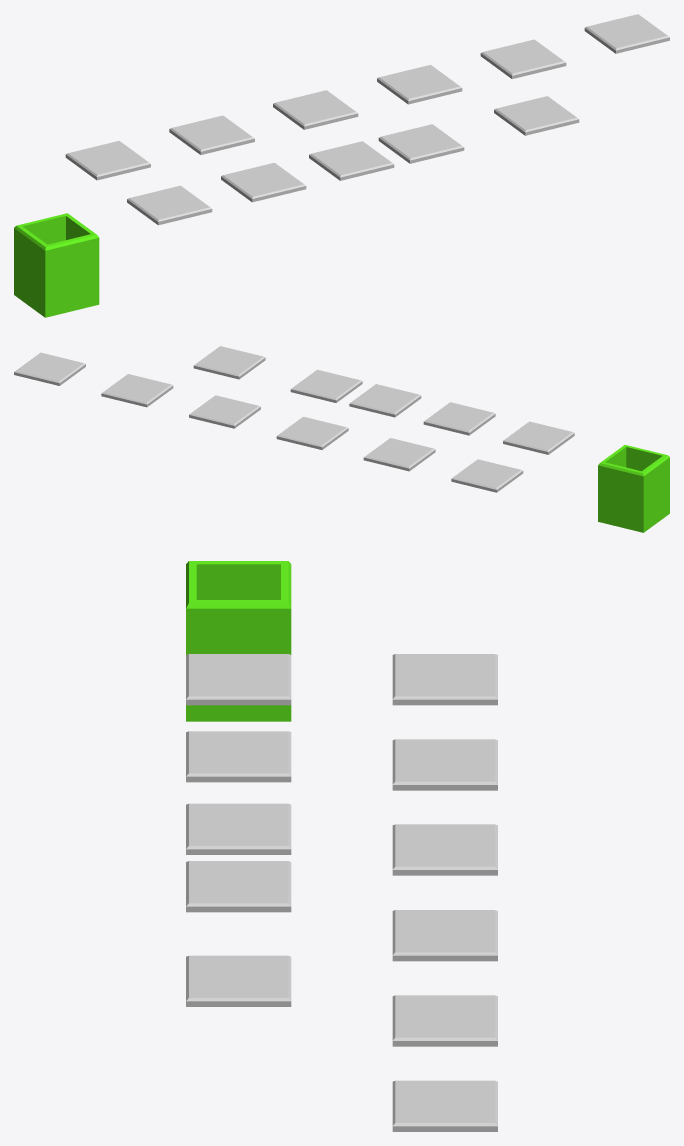
File: snowmap.FBX
The picture shows the model from 3 angles, top to bottom: view 1: azimuth 30°, elevation 25°; view 2: azimuth 150°, elevation 25°; view 3: azimuth 270°, elevation 25°; orthographic projection. The views are drawn at different scales.
Parts seen in each view (by area): view 1: map_snow_hole, map_snow_fix, map_snow_5, map_snow_start_1, map_snow_6, map_snow_start_2, map_snow_1, map_snow_2, map_snow_3, map_snow_default, map_snow_default_1, map_snow_4; view 2: map_snow_hole, map_snow_fix, map_snow_default_1, map_snow_start_2, map_snow_1, map_snow_2, map_snow_5, map_snow_start_1, map_snow_3, map_snow_4, map_snow_6, map_snow_default; view 3: map_snow_hole, map_snow_1, map_snow_default, map_snow_2, map_snow_4, map_snow_start_1, map_snow_3, map_snow_5, map_snow_default_1, map_snow_fix, map_snow_6, map_snow_start_2.
Boxes of the visible parts, x1,y1,x2,y2 form: map_snow_hole: (14,213,99,317); map_snow_fix: (309,141,394,180); map_snow_5: (480,39,566,78); map_snow_start_1: (378,124,464,163); map_snow_6: (584,14,669,53); map_snow_start_2: (494,96,579,135); map_snow_1: (65,141,150,180); map_snow_2: (169,115,254,154); map_snow_3: (273,90,358,129); map_snow_default: (127,185,212,225); map_snow_default_1: (221,162,306,202); map_snow_4: (377,65,462,104); map_snow_hole: (598,445,669,532); map_snow_fix: (349,384,421,417); map_snow_default_1: (423,402,495,435); map_snow_start_2: (193,346,265,379); map_snow_1: (451,459,523,492); map_snow_2: (363,438,435,471); map_snow_5: (101,374,173,407); map_snow_start_1: (290,369,362,402); map_snow_3: (276,416,348,449); map_snow_4: (189,395,260,428); map_snow_6: (14,352,85,385); map_snow_default: (503,421,574,454); map_snow_hole: (186,561,291,721); map_snow_1: (392,654,497,705); map_snow_default: (186,654,291,705); map_snow_2: (392,739,497,790); map_snow_4: (392,910,497,961); map_snow_start_1: (186,861,291,912); map_snow_3: (392,824,497,875); map_snow_5: (392,995,497,1046); map_snow_default_1: (186,731,291,782); map_snow_fix: (186,803,291,854); map_snow_6: (392,1080,497,1131); map_snow_start_2: (186,955,291,1006).
Size of the model in its own units: 548 by 128 by 53.15.
